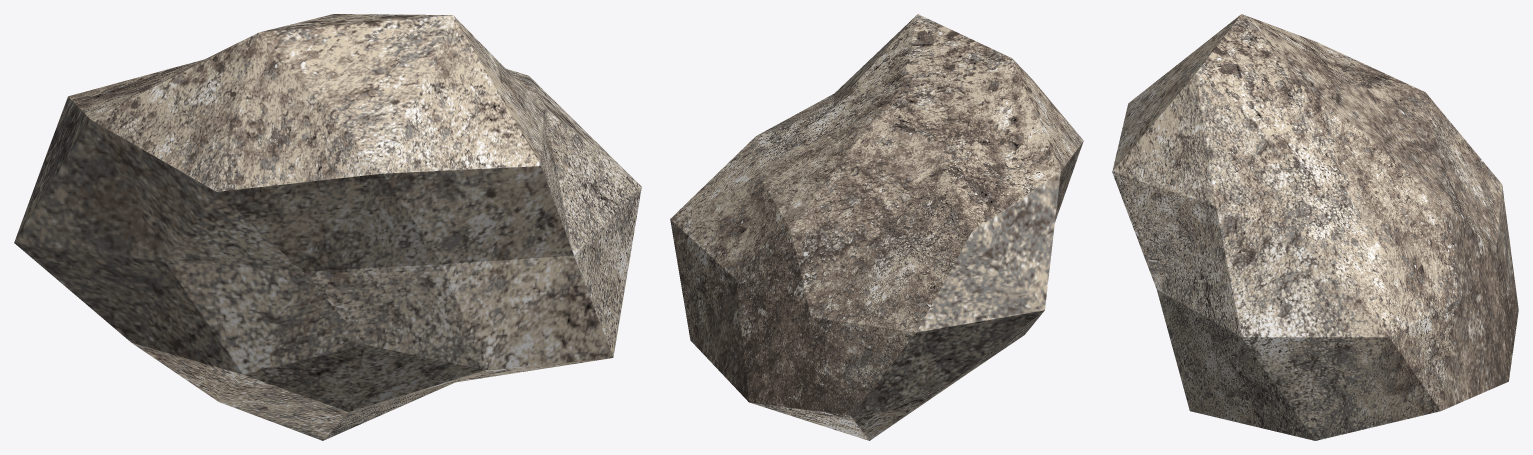
Rendered from rock.glb.
The picture shows the model from 3 angles, left to right: view 1: azimuth 30°, elevation 25°; view 2: azimuth 150°, elevation 25°; view 3: azimuth 270°, elevation 25°; orthographic projection. The views are drawn at different scales.
Visible parts, largest first — view 1: Icosphere; view 2: Icosphere; view 3: Icosphere.
Part boxes in pixels (x1,y1,x2,y2): Icosphere: (14, 14, 641, 440); Icosphere: (670, 14, 1083, 440); Icosphere: (1112, 14, 1518, 440).
Size of the model in its own units: 1.9 by 1.63 by 1.7.
1 material, 1 textured.
